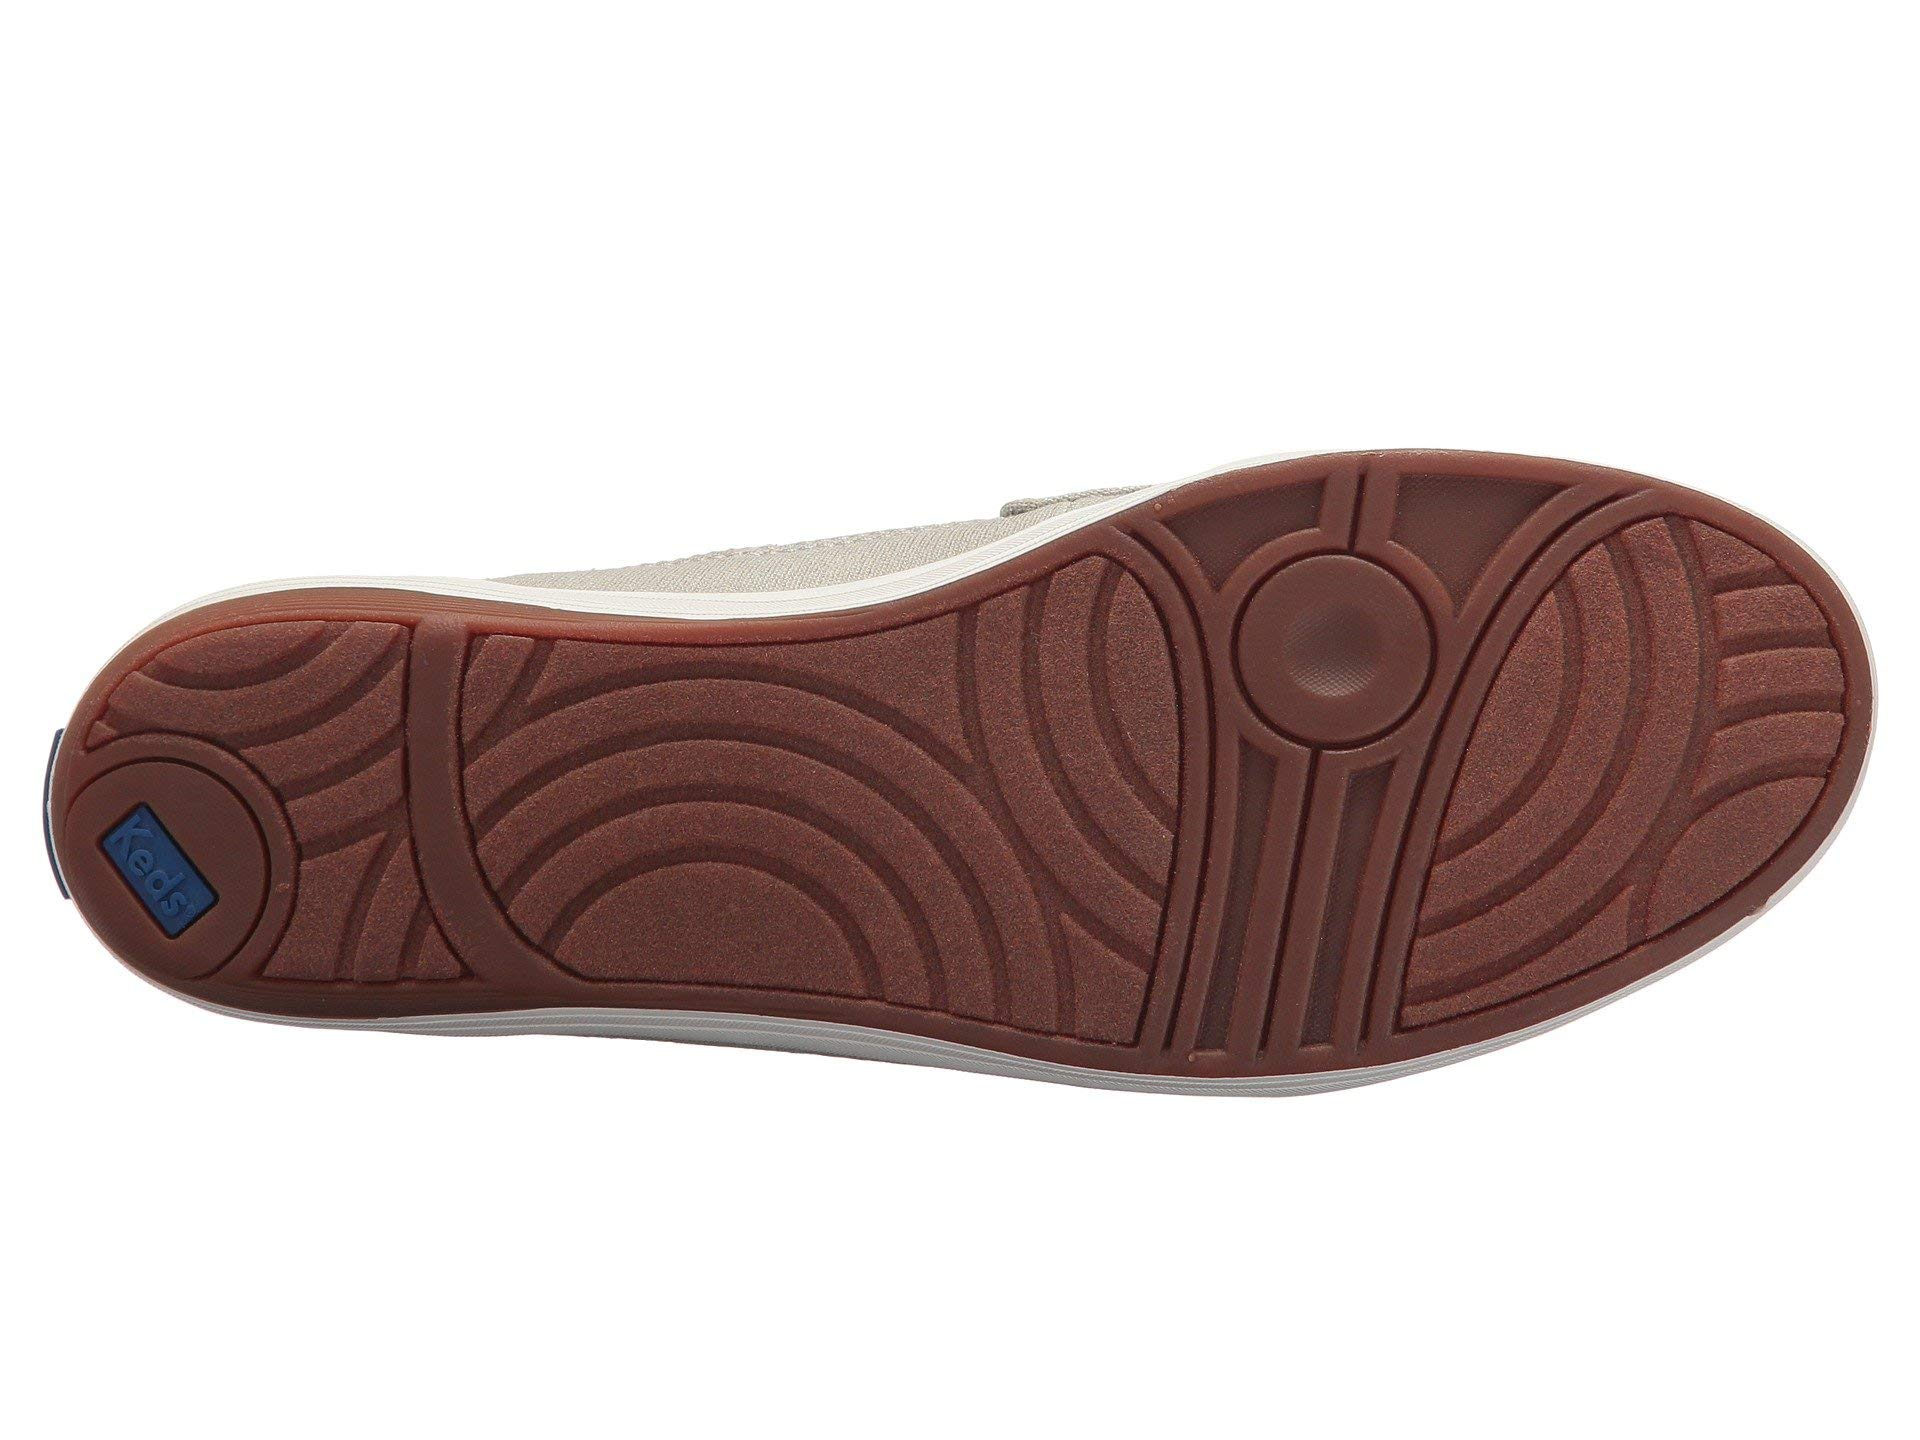circle: (537, 684, 936, 995), (41, 712, 322, 1018), (1211, 528, 1462, 767)
line: (1181, 790, 1421, 1016)
quad: (41, 712, 322, 1018)
text: (41, 712, 322, 1018)
